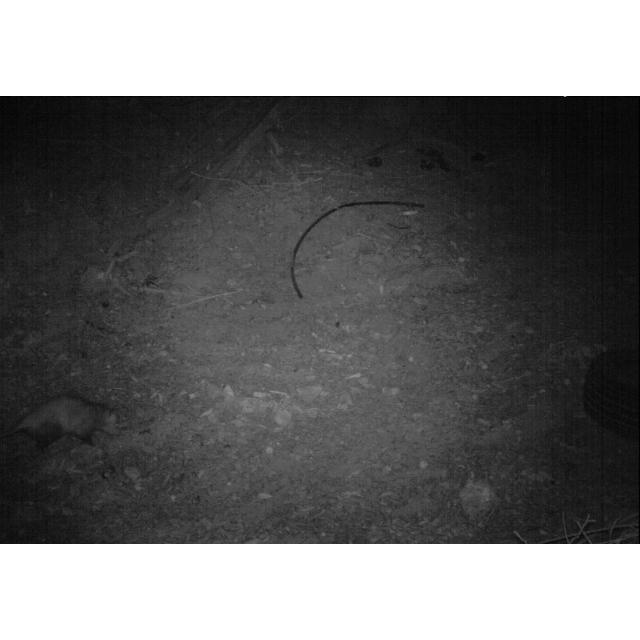animals: (8, 396, 124, 452)
